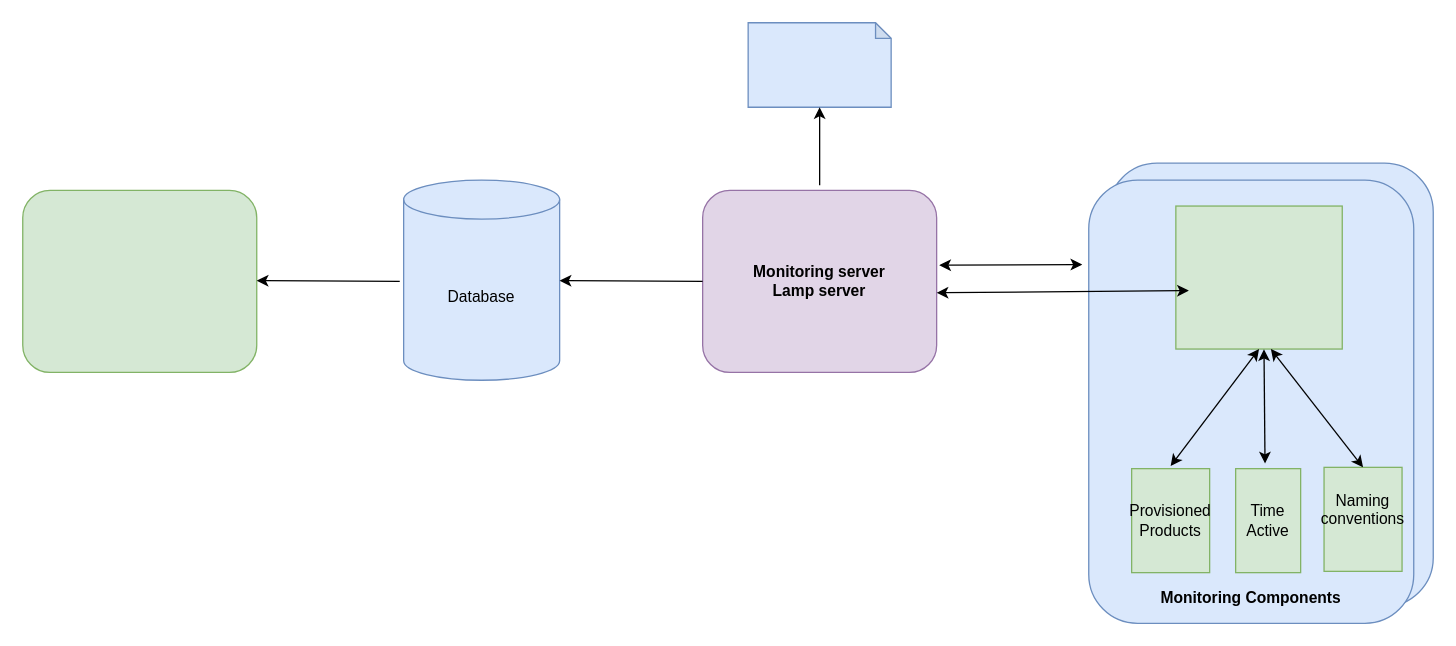
Image size: 1456x646. Some labels were removed from this diagram. Each missing label, with the centre of its shape:
"Dashboard Reports" goes at point (139, 280).
"Monitoring Agent" goes at point (1258, 277).
"Slack alerts" goes at point (819, 64).
